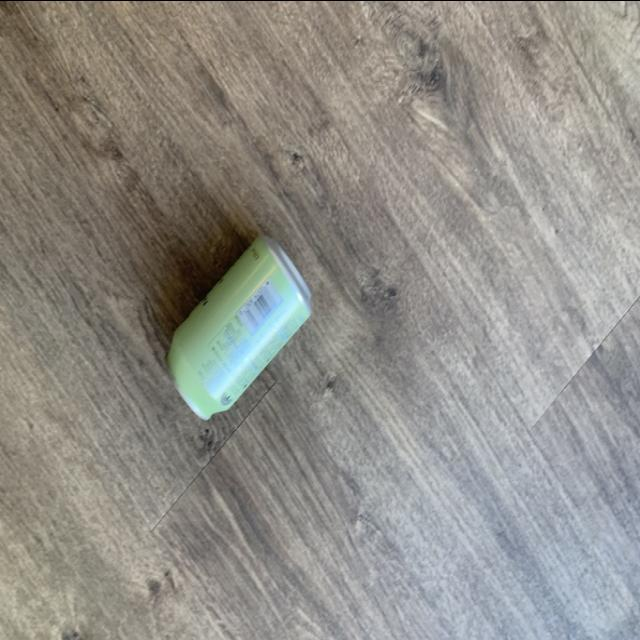Aluminum Can: (152, 230, 316, 425)
